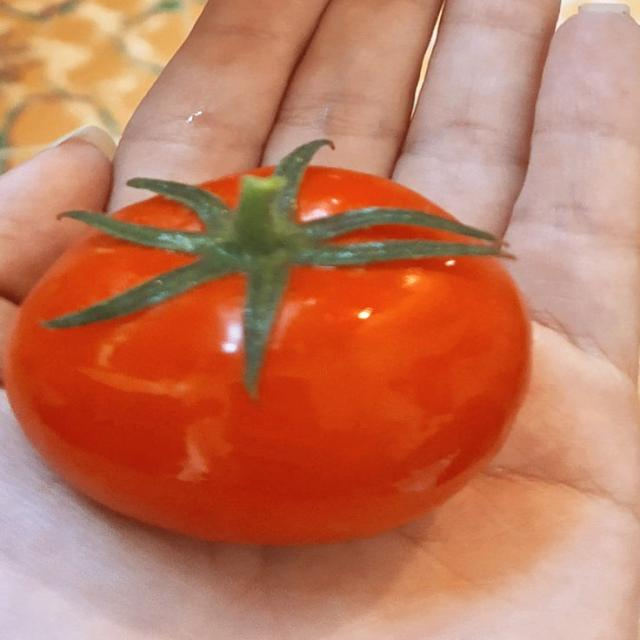tomato: (7, 233, 529, 544)
